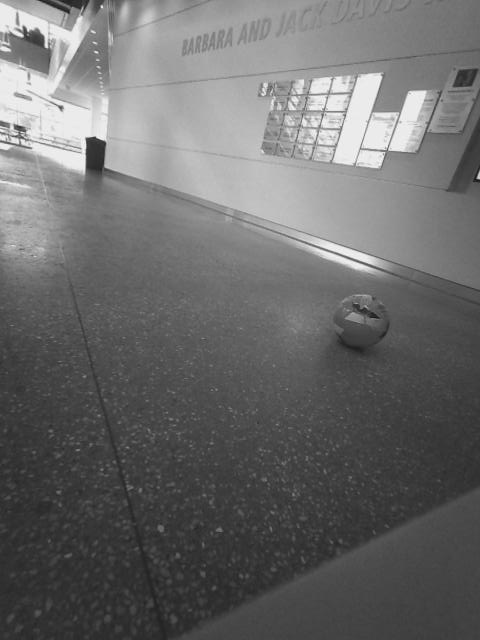ball: (328, 290, 393, 351)
